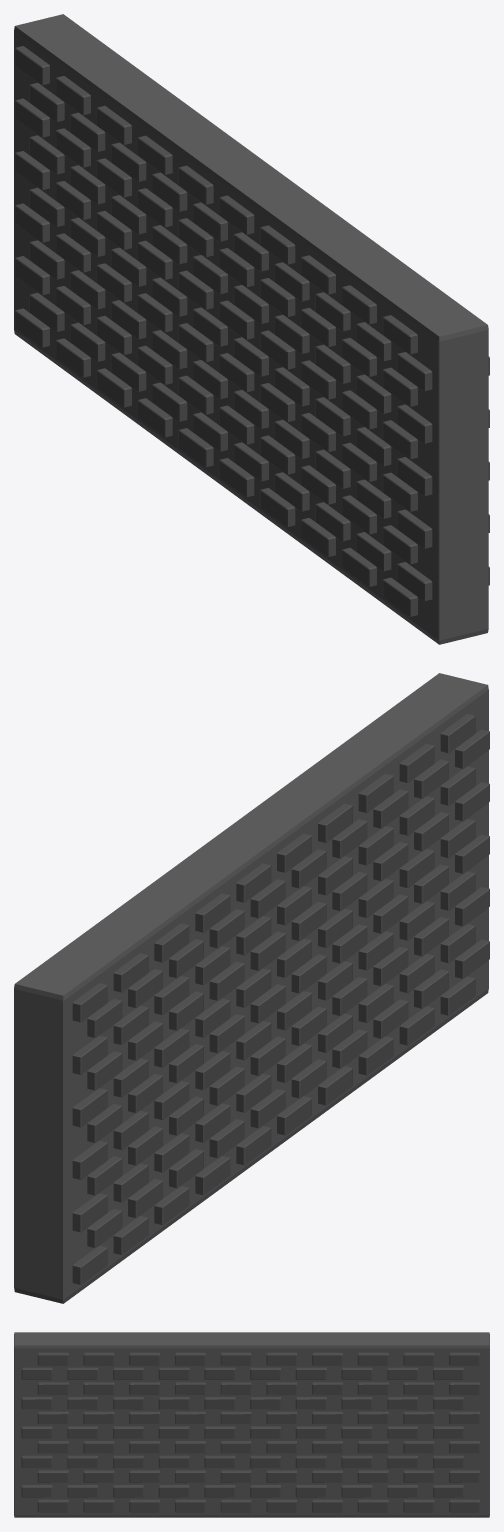
The model's file is wall_twosides.fbx.
3 renders of one model, top to bottom at view 1: azimuth 30°, elevation 25°; view 2: azimuth 150°, elevation 25°; view 3: azimuth 270°, elevation 25°, orthographic. The views are drawn at different scales.
Parts seen in each view (by area): view 1: wall_twosides; view 2: wall_twosides; view 3: wall_twosides.
Boxes of the visible parts, left/top/right/bottom form: wall_twosides: left=14, top=14, right=489, bottom=644; wall_twosides: left=14, top=673, right=489, bottom=1303; wall_twosides: left=14, top=1332, right=489, bottom=1517.
Bounding box in the file's own units: 265 × 1174 × 2938.
